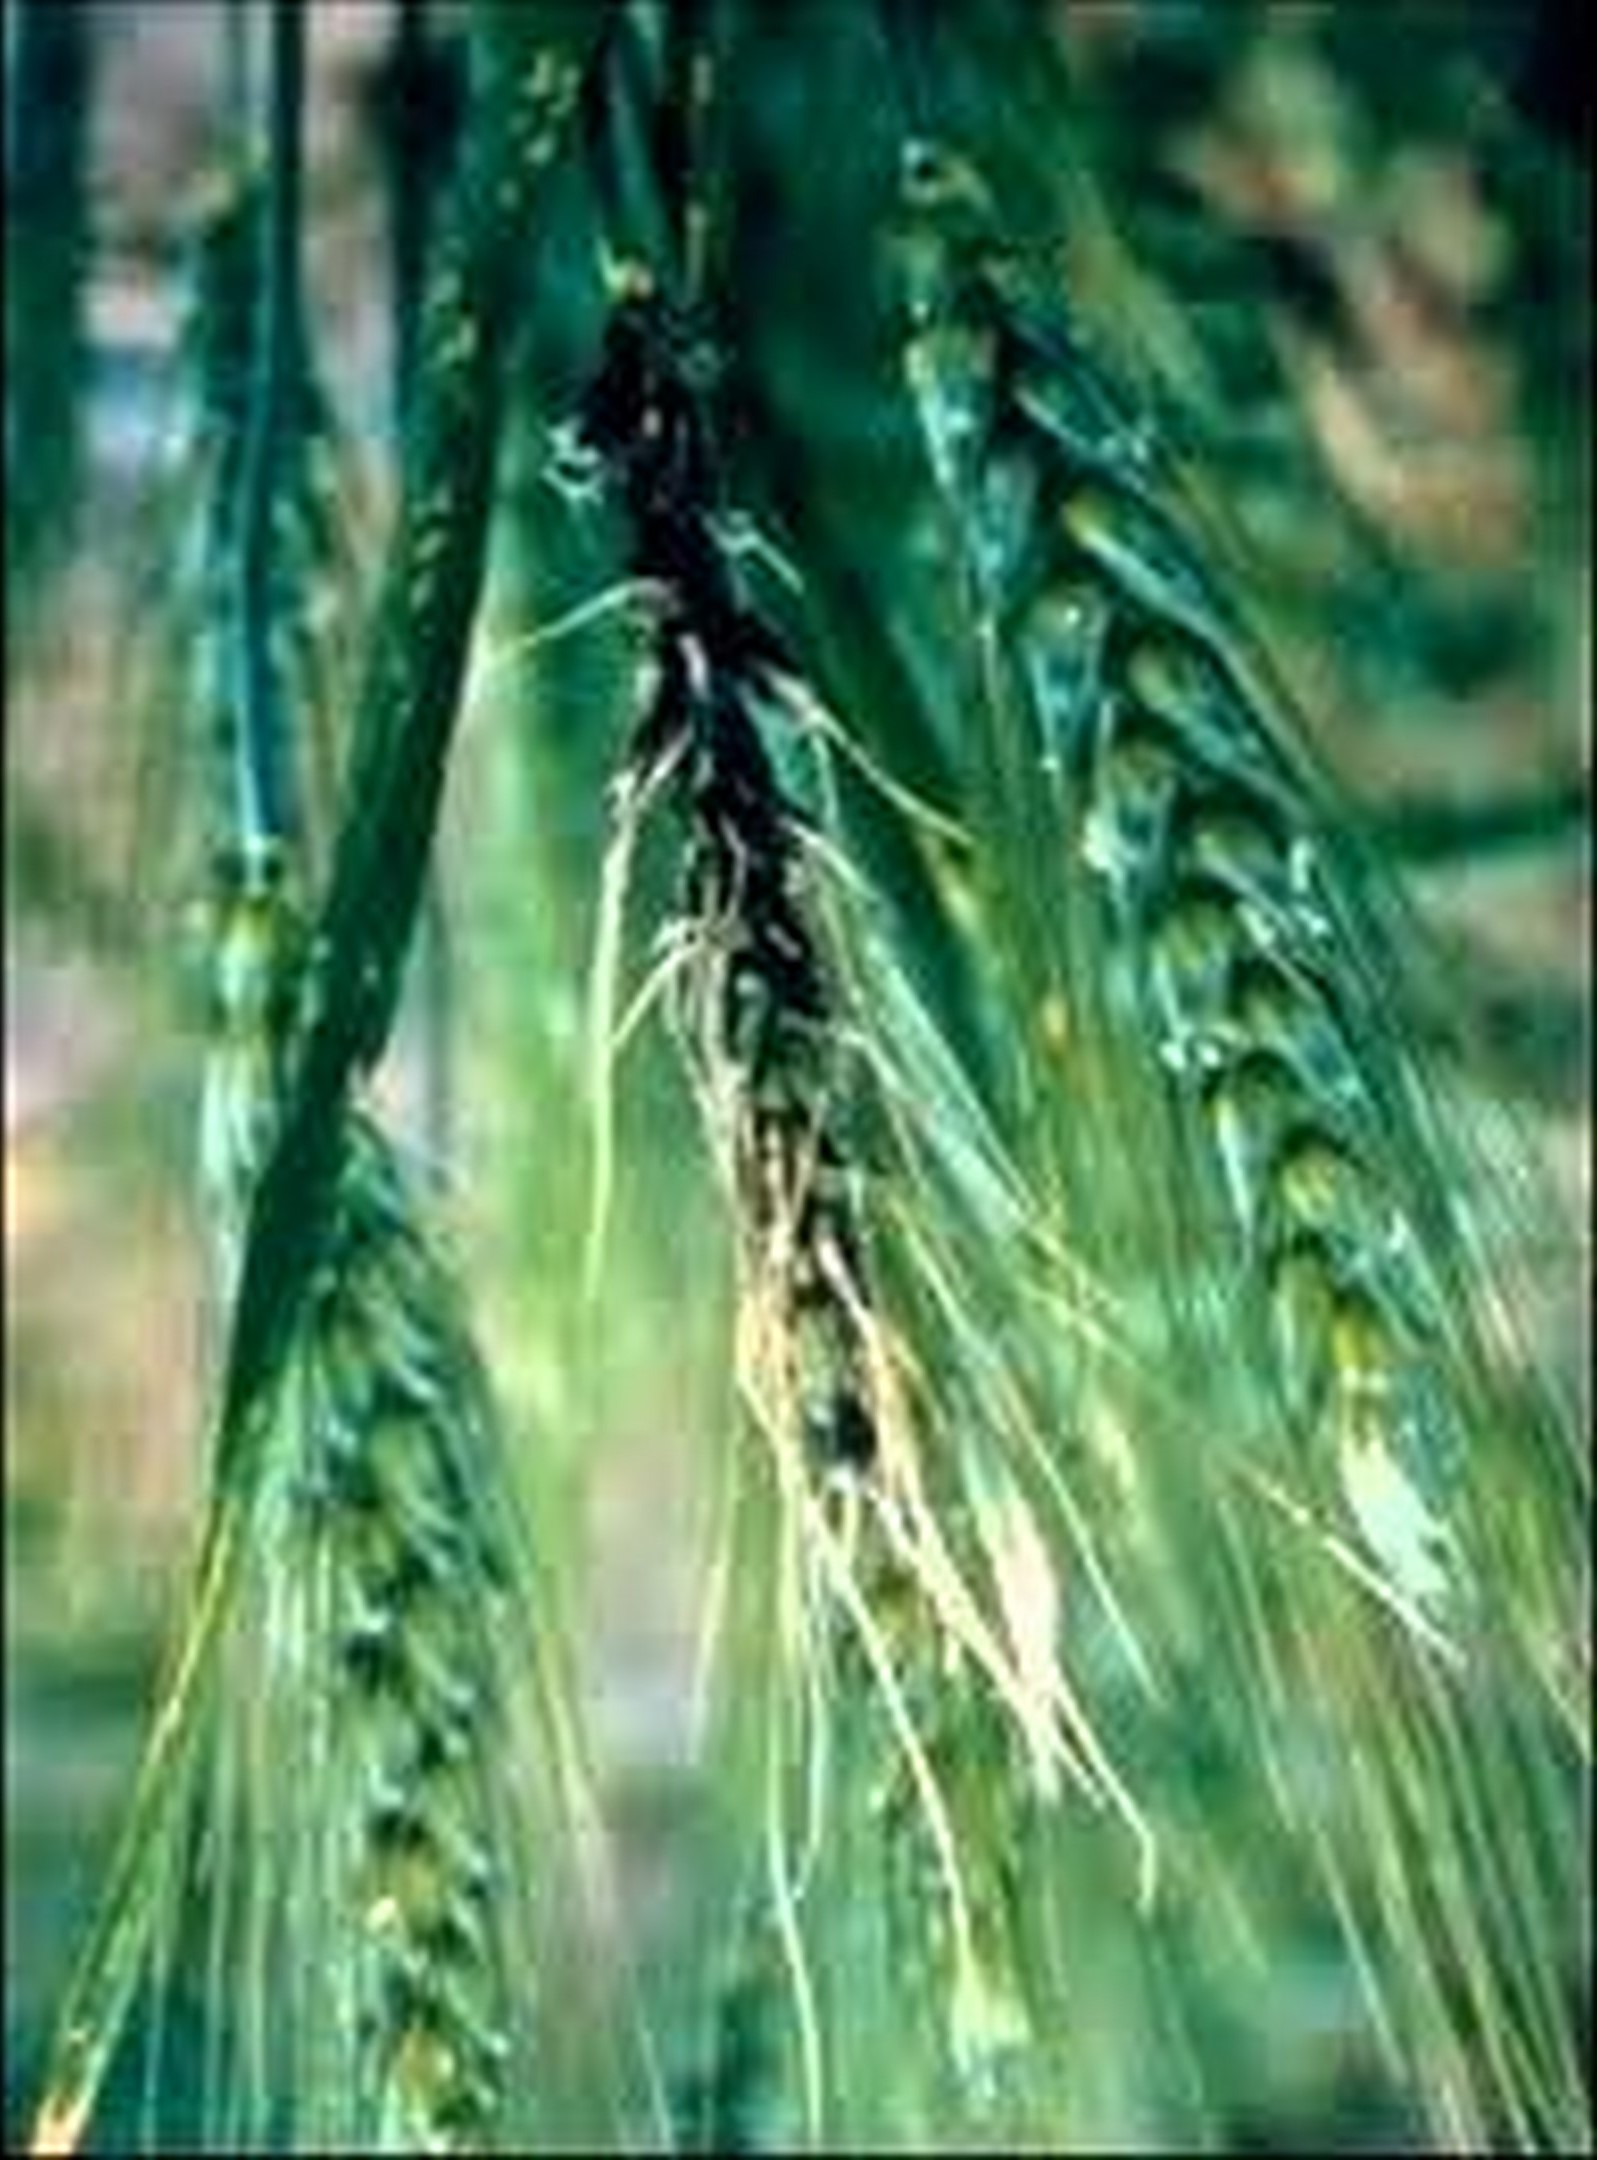Wheat Loose Smut: (570, 312, 943, 1481)
